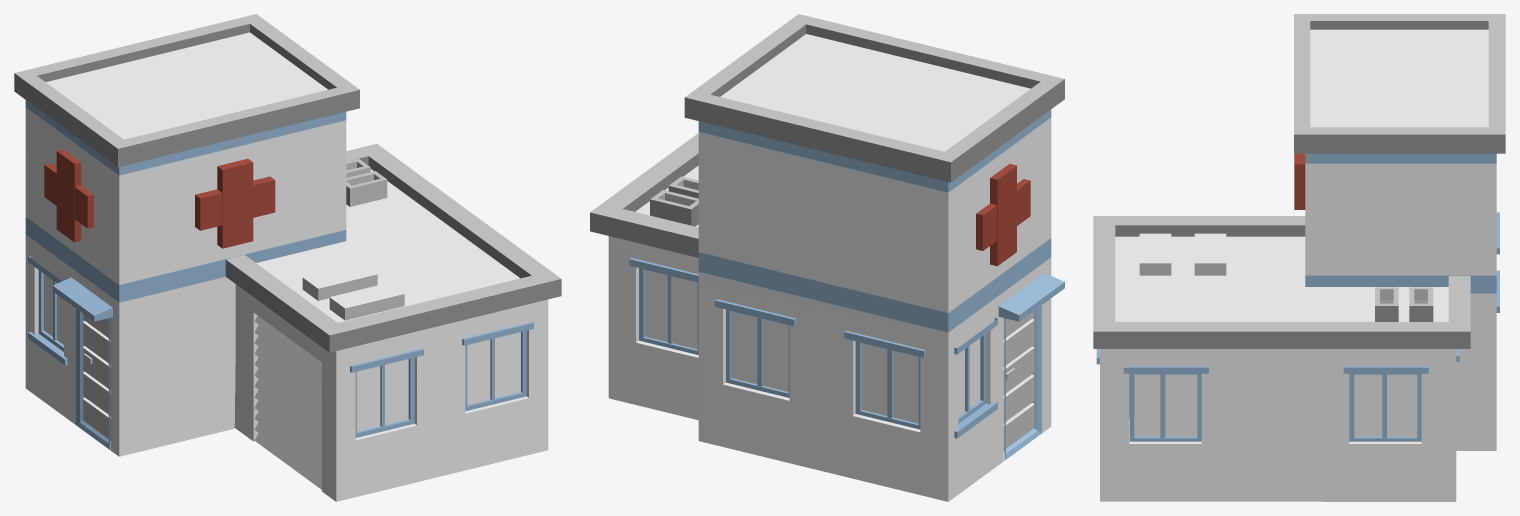
File: out hospital.fbx
3 renders of one model, left to right at view 1: azimuth 30°, elevation 25°; view 2: azimuth 150°, elevation 25°; view 3: azimuth 270°, elevation 25°, orthographic. The views are drawn at different scales.
Parts seen in each view (by area): view 1: polySurface2, polySurface3, polySurface1; view 2: polySurface3, polySurface1, polySurface2; view 3: polySurface2, polySurface3, polySurface1.
Part boxes in pixels (left/top/right/bottom): polySurface2: left=14, top=14, right=561, bottom=501; polySurface3: left=15, top=15, right=561, bottom=500; polySurface1: left=25, top=112, right=346, bottom=456; polySurface3: left=590, top=17, right=1064, bottom=499; polySurface1: left=698, top=109, right=1051, bottom=501; polySurface2: left=590, top=14, right=1064, bottom=460; polySurface2: left=1093, top=16, right=1505, bottom=501; polySurface3: left=1093, top=14, right=1505, bottom=501; polySurface1: left=1305, top=153, right=1496, bottom=450.
Size of the model in its own units: 4560 by 3831 by 4463.
